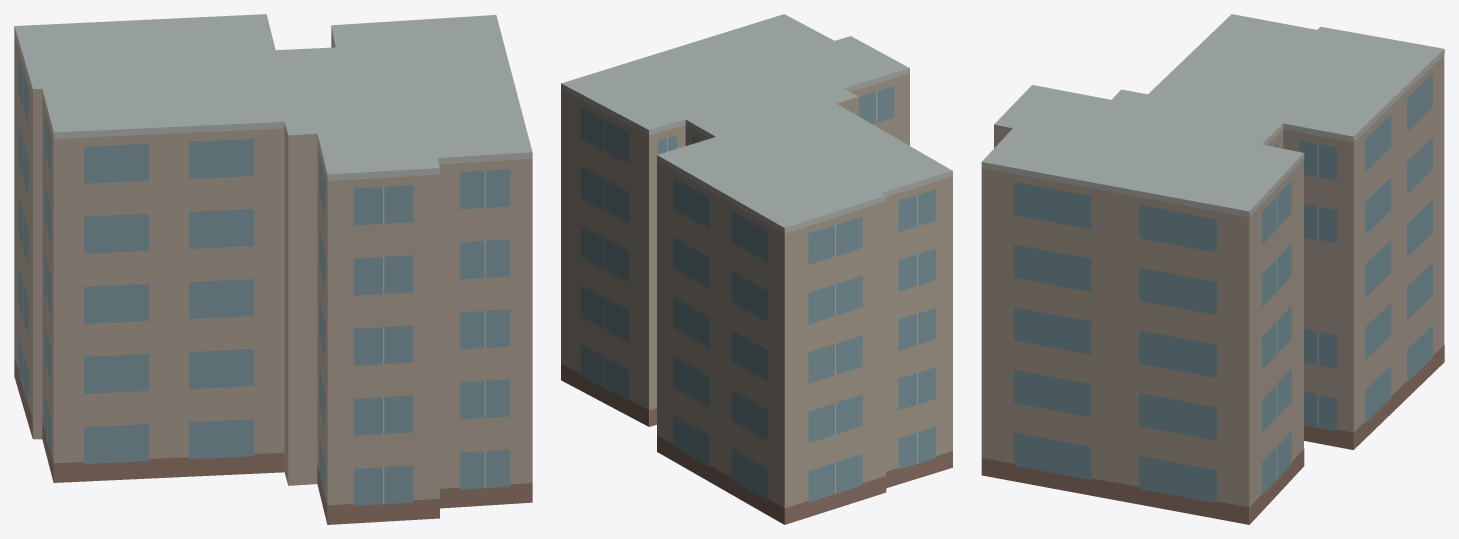
Rendered from survey-upis-32901515.glb.
3 renders of one model, left to right at view 1: azimuth 30°, elevation 25°; view 2: azimuth 150°, elevation 25°; view 3: azimuth 270°, elevation 25°, orthographic. The views are drawn at different scales.
Parts seen in each view (by area): view 1: survey-upis-32901515.tmp; view 2: survey-upis-32901515.tmp; view 3: survey-upis-32901515.tmp.
Part boxes in pixels (box(x1,y1,x2,y2)): survey-upis-32901515.tmp: box(14, 14, 532, 524); survey-upis-32901515.tmp: box(561, 14, 952, 524); survey-upis-32901515.tmp: box(981, 14, 1444, 524).
Size of the model in its own units: 17.58 by 13 by 17.41.
